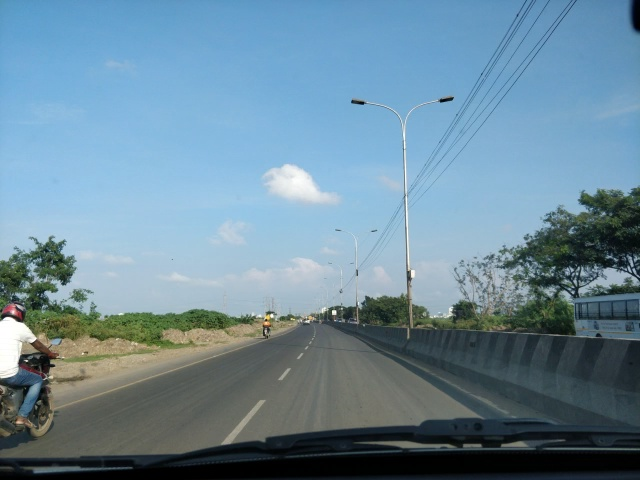bus: (571, 289, 635, 350)
car: (298, 314, 315, 329)
motorbike: (2, 276, 69, 445), (255, 314, 283, 342)
